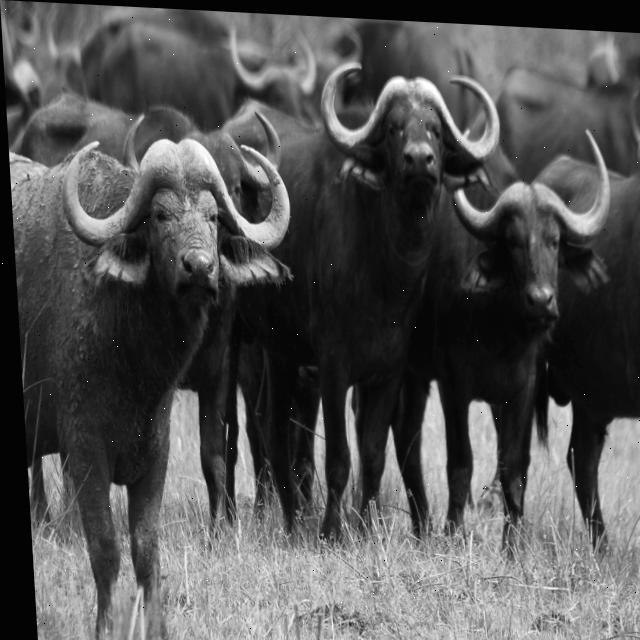Buffalo: (8, 133, 318, 640), (227, 54, 526, 557), (419, 118, 633, 563)
